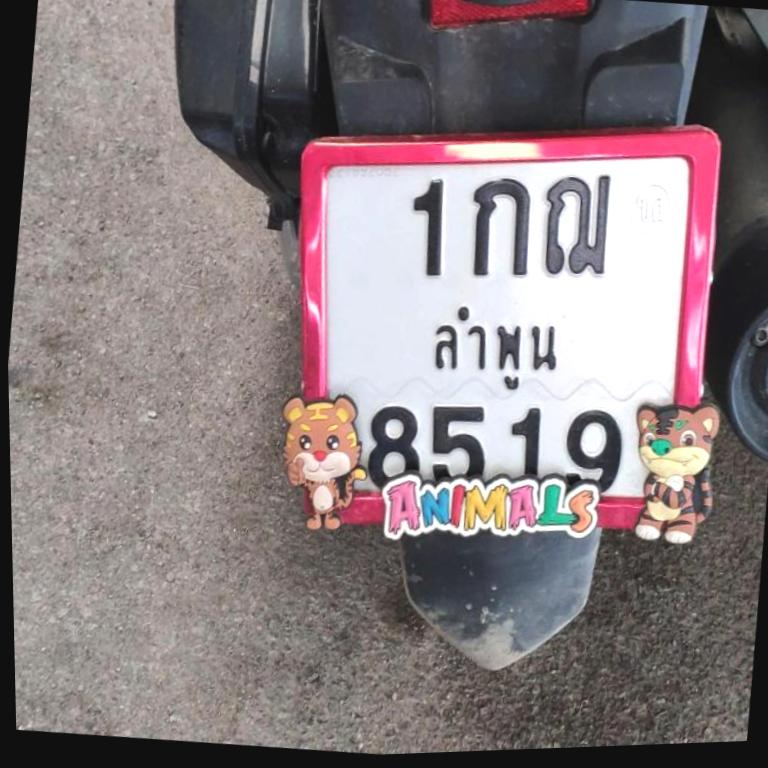license plate: (300, 130, 717, 522)
